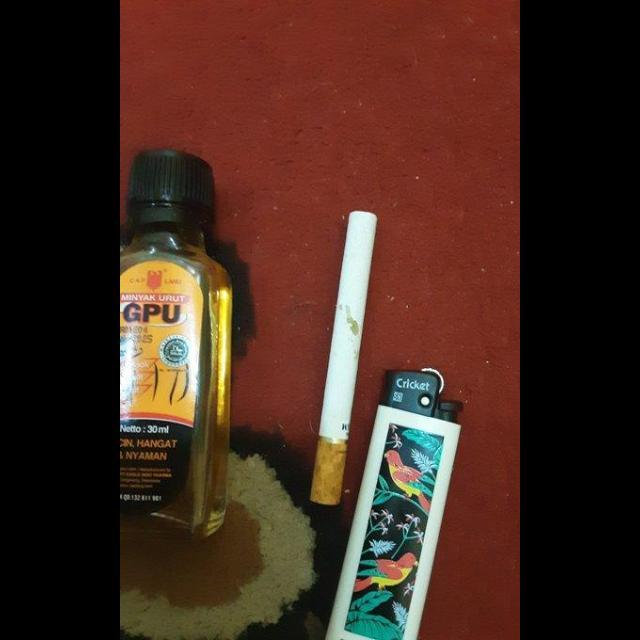rokok: (303, 208, 387, 507)
